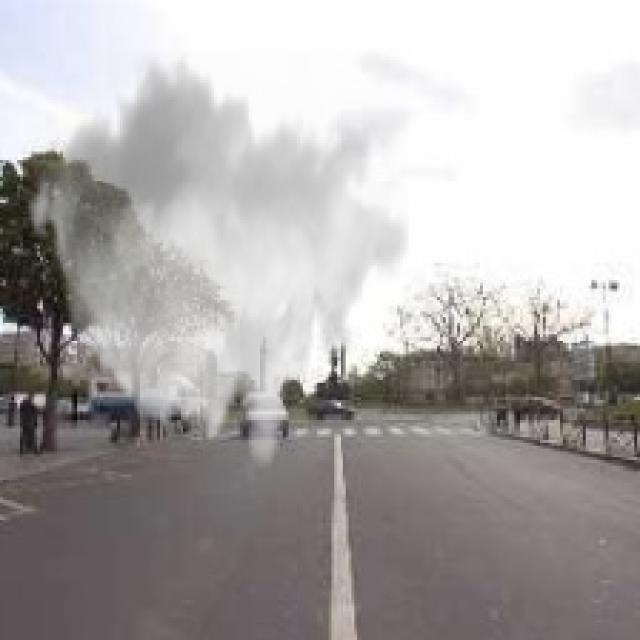smoke: (23, 52, 408, 474)
